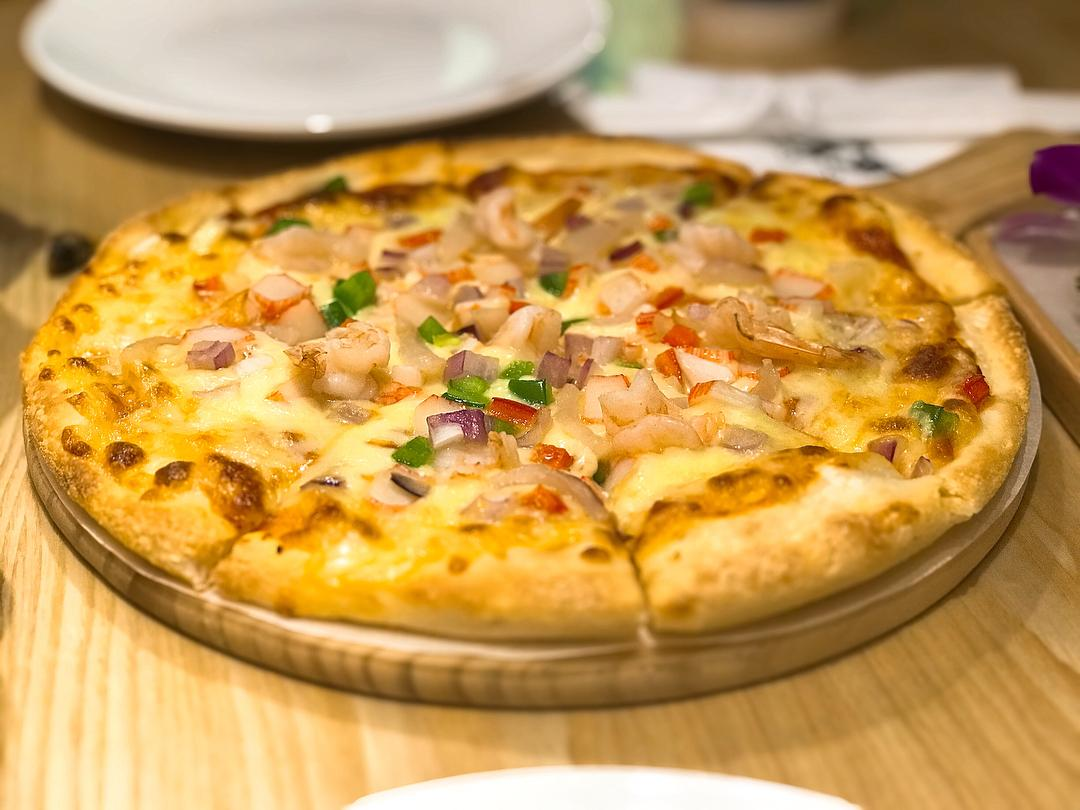Chicken: (581, 371, 700, 461), (301, 324, 401, 398), (444, 288, 558, 352), (251, 221, 387, 274), (711, 298, 820, 358), (668, 231, 769, 285), (498, 204, 574, 247), (591, 271, 647, 309)
Peppers: (321, 274, 392, 321), (504, 361, 554, 401), (398, 438, 434, 474), (448, 381, 496, 403), (678, 181, 716, 207), (911, 401, 947, 427)
Pizza: (22, 141, 1049, 649)
Tomatoes: (251, 274, 310, 325), (634, 308, 696, 349), (488, 398, 538, 434), (398, 221, 447, 254), (528, 488, 563, 521), (524, 444, 569, 467), (764, 218, 803, 243), (654, 344, 680, 374)
